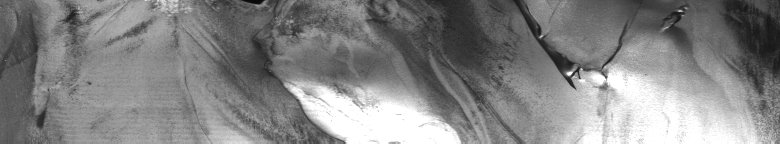ke: (212, 4, 688, 136)
